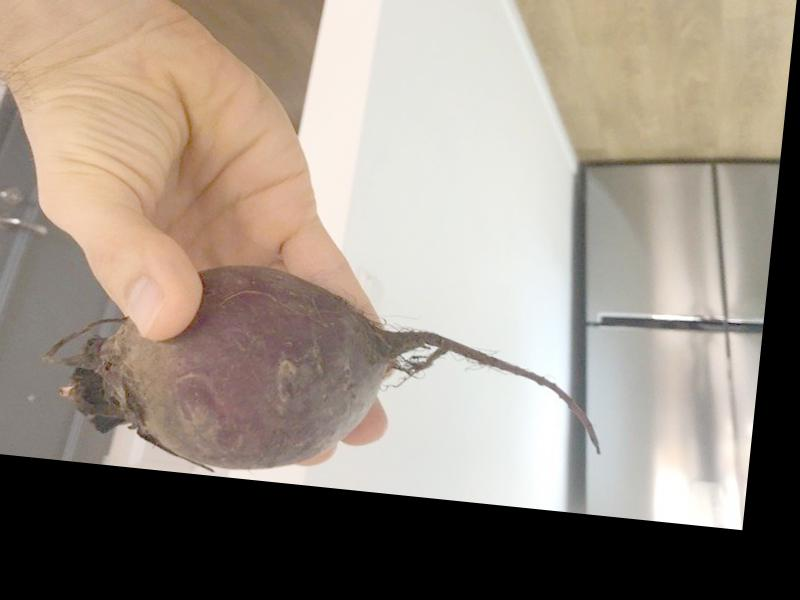Beet: (35, 250, 613, 510)
